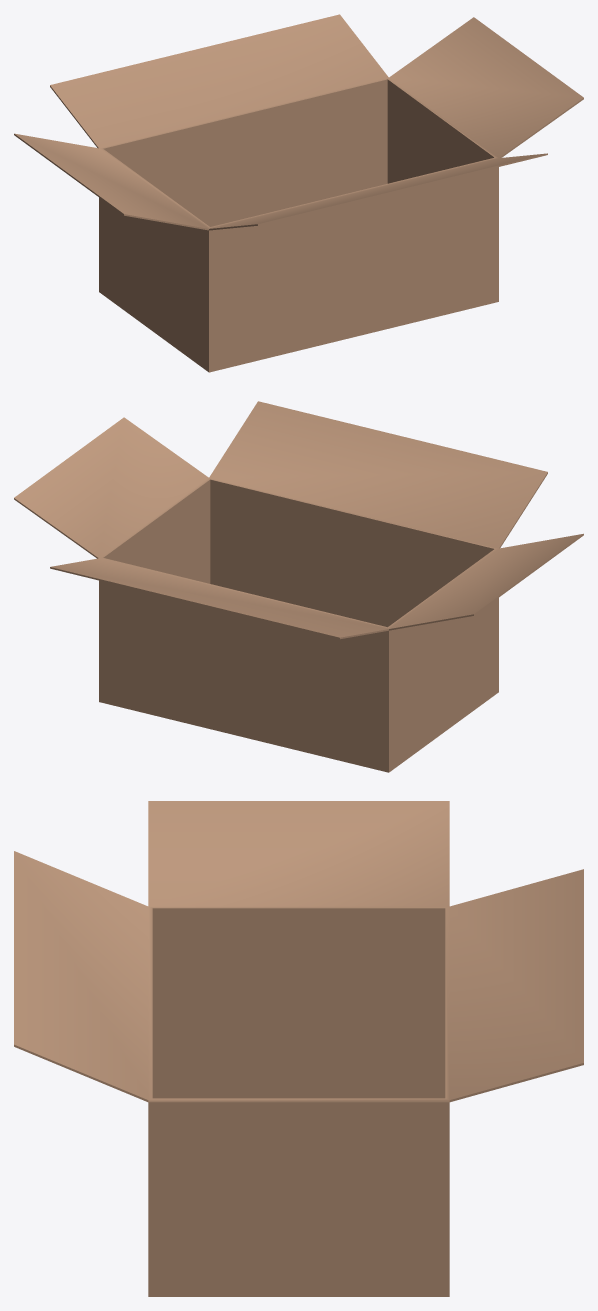
Rendered from Cardboard Box 2.fbx.
3 views of the same model, one above another, from view 1: azimuth 30°, elevation 25°; view 2: azimuth 150°, elevation 25°; view 3: azimuth 270°, elevation 25° (orthographic). The views are drawn at different scales.
Parts seen in each view (by area): view 1: Cardboard_Box_4; view 2: Cardboard_Box_4; view 3: Cardboard_Box_4.
Boxes of the visible parts, left/top/right/bottom form: Cardboard_Box_4: left=14, top=14, right=583, bottom=372; Cardboard_Box_4: left=14, top=401, right=583, bottom=772; Cardboard_Box_4: left=14, top=801, right=583, bottom=1296.
Size of the model in its own units: 89.82 by 34.4 by 70.42.
